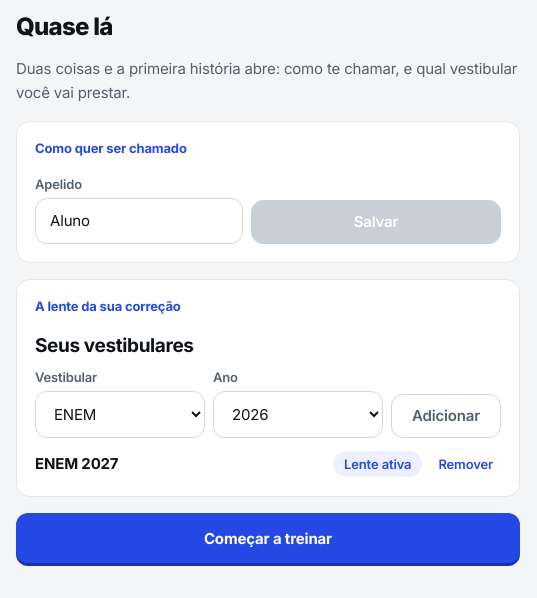
Test: onboarding › dá para remover um vestibular da lista
Click the button with aria-label "remover enem 2027". click: [466, 464]
box: [430,450,501,478]
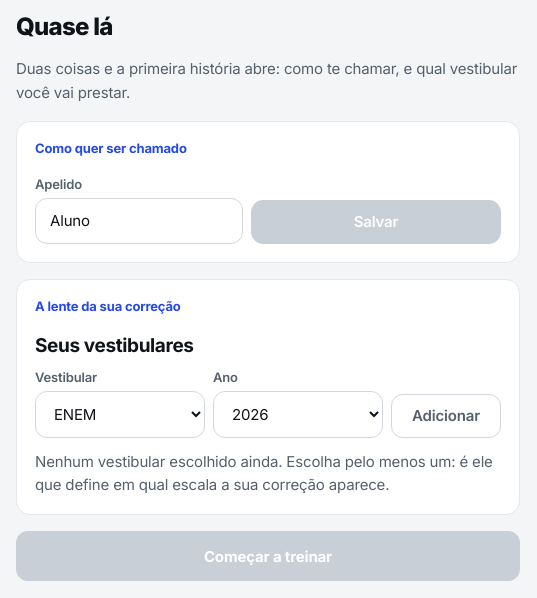
expect the text "Nenhum vestibular escolhido ainda" is shown: met, box [35,452,493,494]
